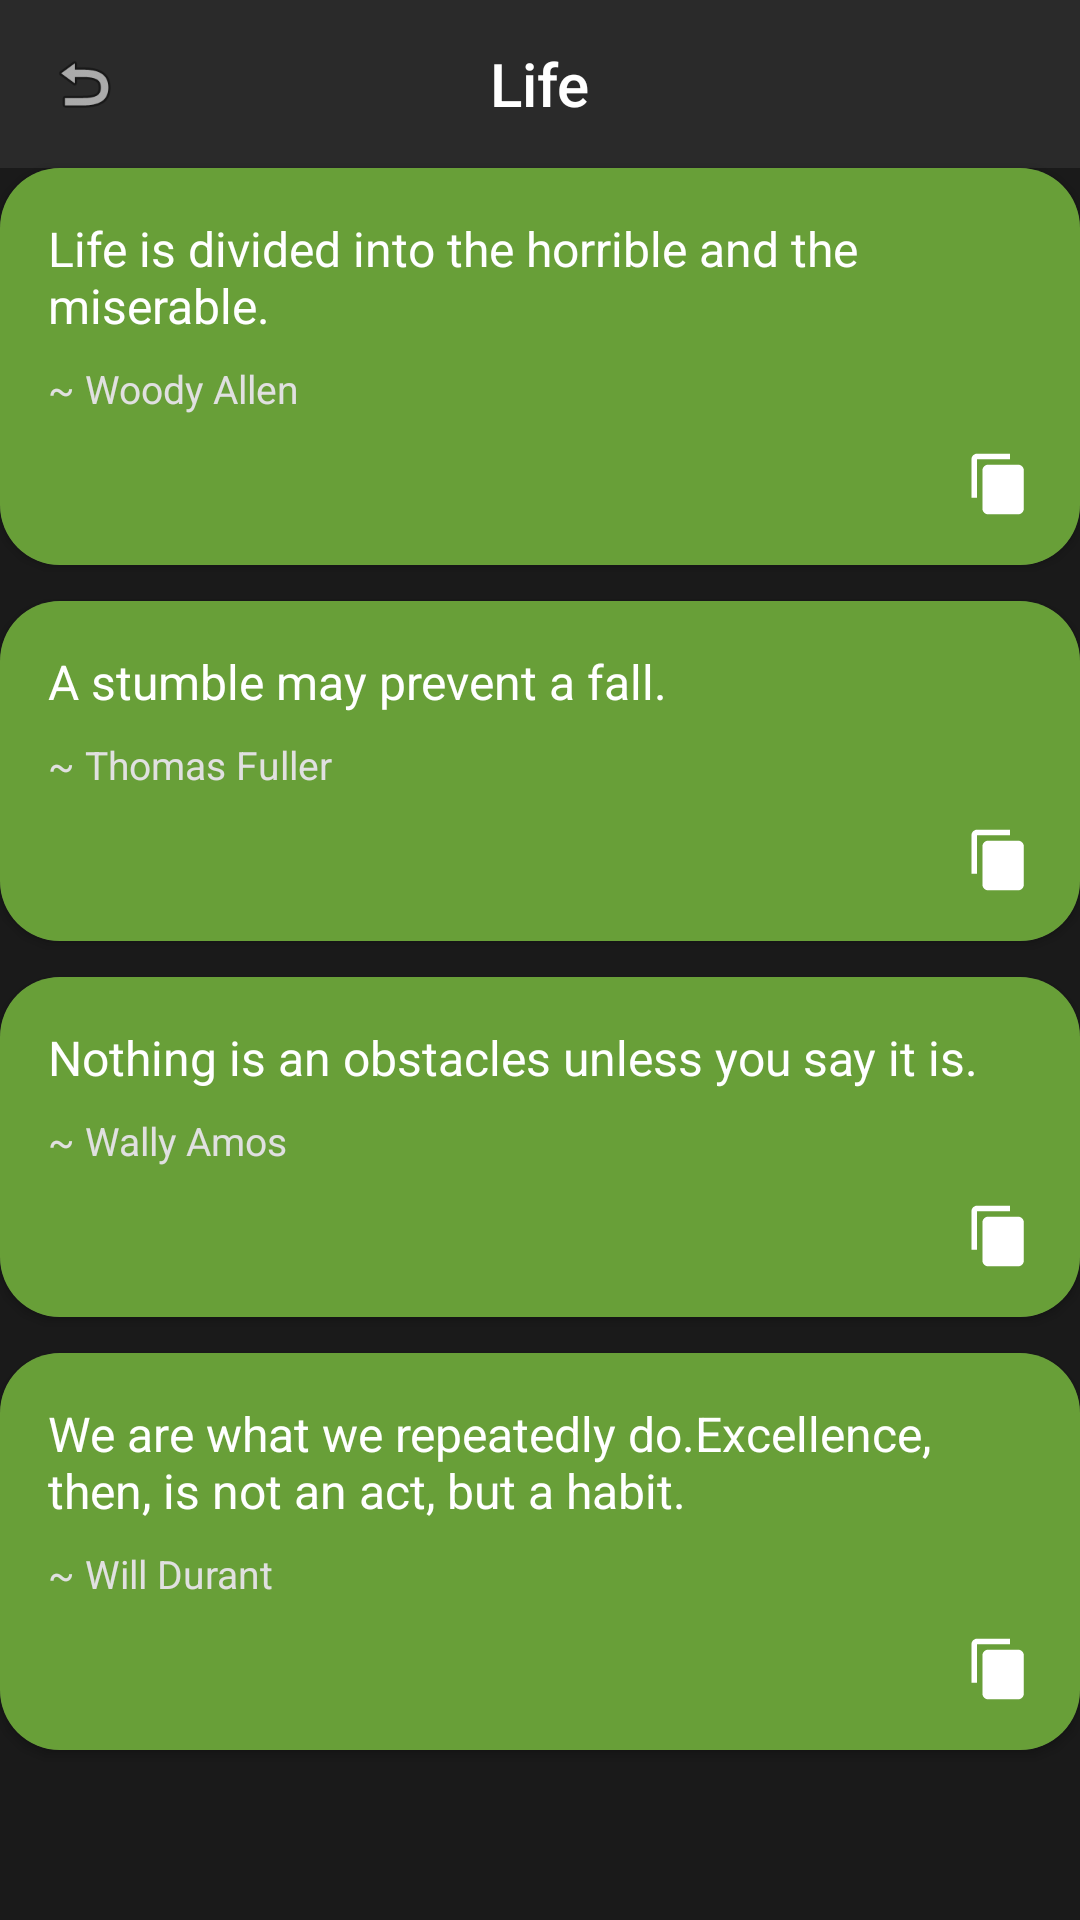

Locate icon controls on the screen. Image size 1080 x 1920, boxes as (x1, y1, x2, y2).
Back: (61, 63, 109, 106)
